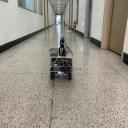cart: (49, 50, 73, 81)
